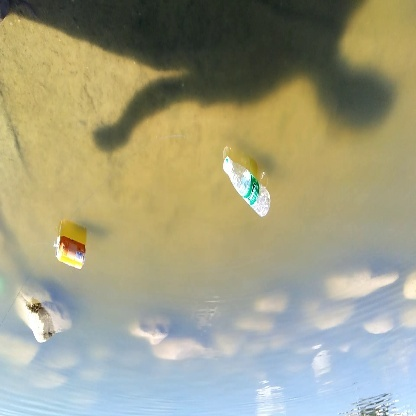bottle: (217, 152, 277, 230), (52, 235, 93, 274)
